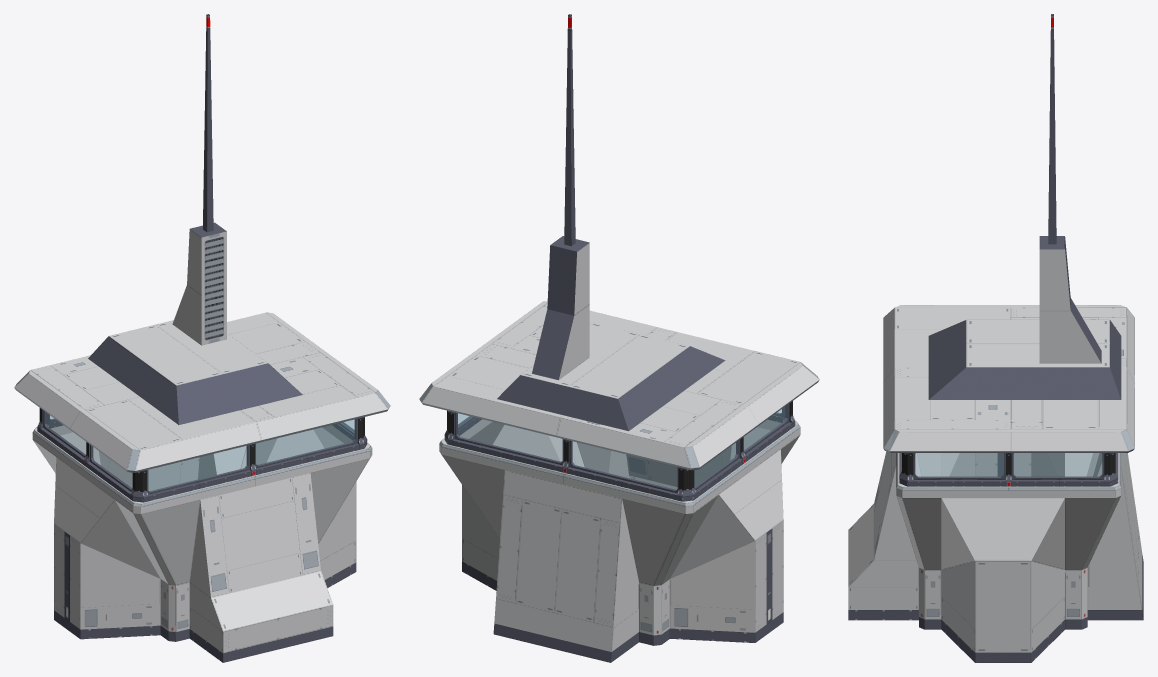
File: Cruiser_Command_Center_01.FBX
The picture shows the model from 3 angles, left to right: view 1: azimuth 30°, elevation 25°; view 2: azimuth 150°, elevation 25°; view 3: azimuth 270°, elevation 25°; orthographic projection. The views are drawn at different scales.
Visible parts, largest first — view 1: Cruiser_Command_Center_01; view 2: Cruiser_Command_Center_01; view 3: Cruiser_Command_Center_01.
Boxes of the visible parts, x1=… form: Cruiser_Command_Center_01: x1=14, y1=14, x2=390, y2=662; Cruiser_Command_Center_01: x1=419, y1=14, x2=819, y2=662; Cruiser_Command_Center_01: x1=848, y1=14, x2=1143, y2=662.
Bounding box in the file's own units: 30 × 58 × 26.29.
